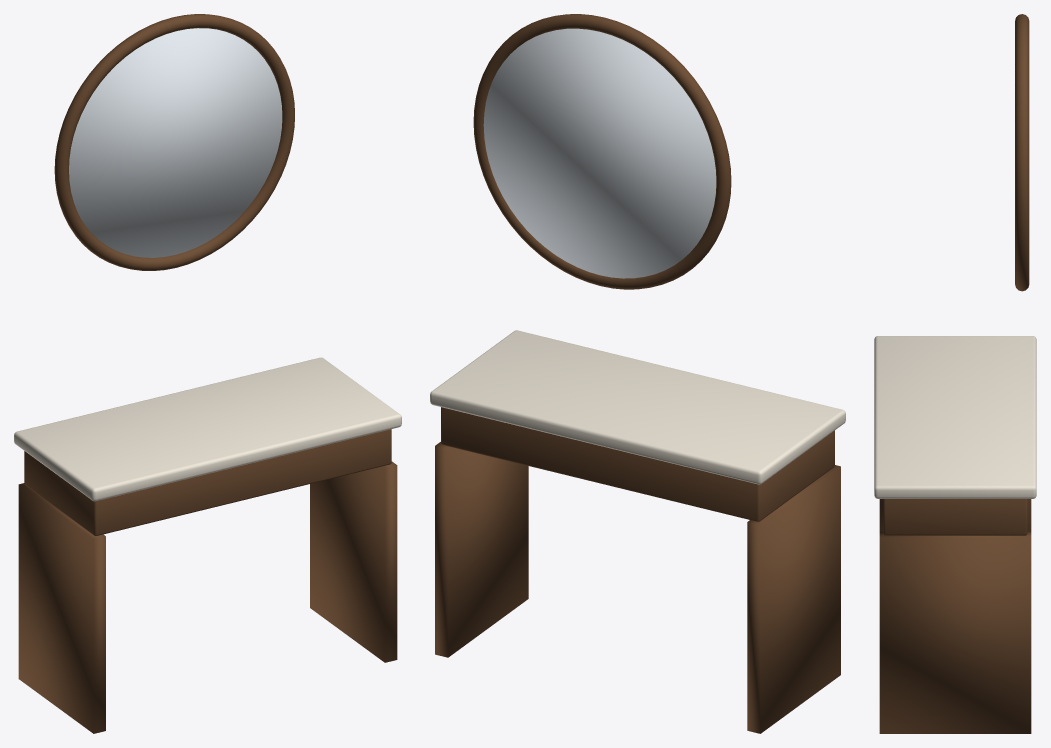
File: bl_vanity.glb
3 views of the same model, side by side, from view 1: azimuth 30°, elevation 25°; view 2: azimuth 150°, elevation 25°; view 3: azimuth 270°, elevation 25° (orthographic). The views are drawn at different scales.
Parts seen in each view (by area): view 1: mirror, top, legPanel2, legPanel, drawer, rim; view 2: mirror, top, legPanel2, legPanel, drawer, rim; view 3: legPanel, top, drawer, rim, legPanel2.
Part boxes in pixels (<box>): mirror: <box>69,28,282,257</box>; top: <box>14,357,401,501</box>; legPanel2: <box>18,483,105,733</box>; legPanel: <box>310,461,397,662</box>; drawer: <box>24,429,391,535</box>; rim: <box>54,14,294,270</box>; mirror: <box>483,28,716,278</box>; top: <box>430,330,845,484</box>; legPanel2: <box>747,465,840,733</box>; legPanel: <box>435,442,528,657</box>; drawer: <box>441,407,834,521</box>; rim: <box>473,14,731,289</box>; legPanel: <box>879,531,1031,733</box>; top: <box>874,336,1036,498</box>; drawer: <box>883,499,1027,535</box>; rim: <box>1015,14,1029,291</box>; legPanel2: <box>879,499,1031,531</box>.
Size of the model in its own units: 1 by 1.93 by 0.45.
